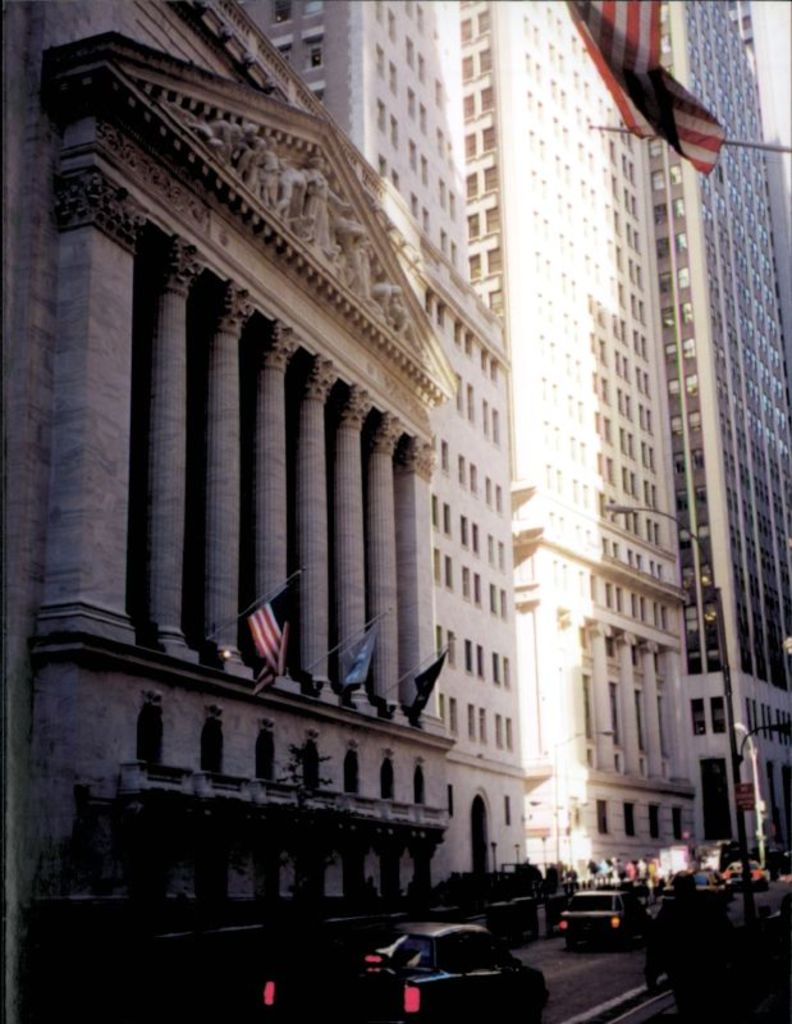Car: (365, 928, 541, 1009), (560, 889, 653, 948), (660, 867, 722, 908)
